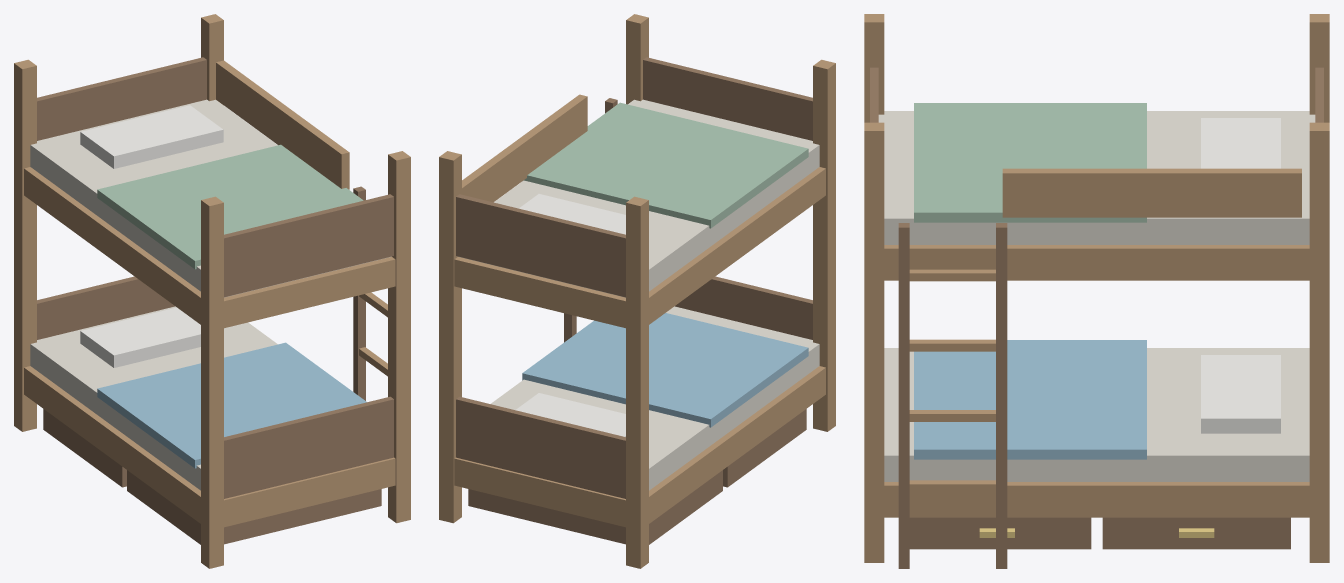
File: Bunk_Bed.glb
3 renders of one model, left to right at view 1: azimuth 30°, elevation 25°; view 2: azimuth 150°, elevation 25°; view 3: azimuth 270°, elevation 25°, orthographic. The views are drawn at different scales.
Parts seen in each view (by area): view 1: Bunk_Bed; view 2: Bunk_Bed; view 3: Bunk_Bed.
Part boxes in pixels (<box>): Bunk_Bed: <box>14,14,410,568</box>; Bunk_Bed: <box>439,14,835,568</box>; Bunk_Bed: <box>864,14,1329,568</box>.
Bounding box in the file's own units: 1.32 × 2.15 × 2.1.
